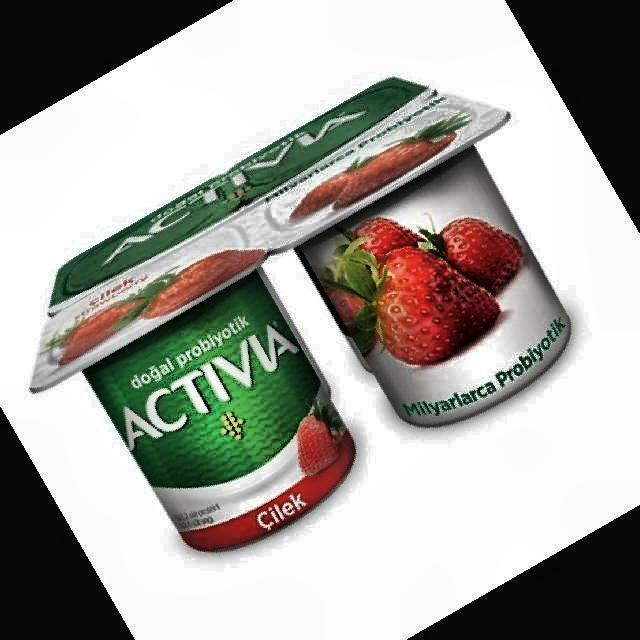plastic: (32, 79, 569, 550)
